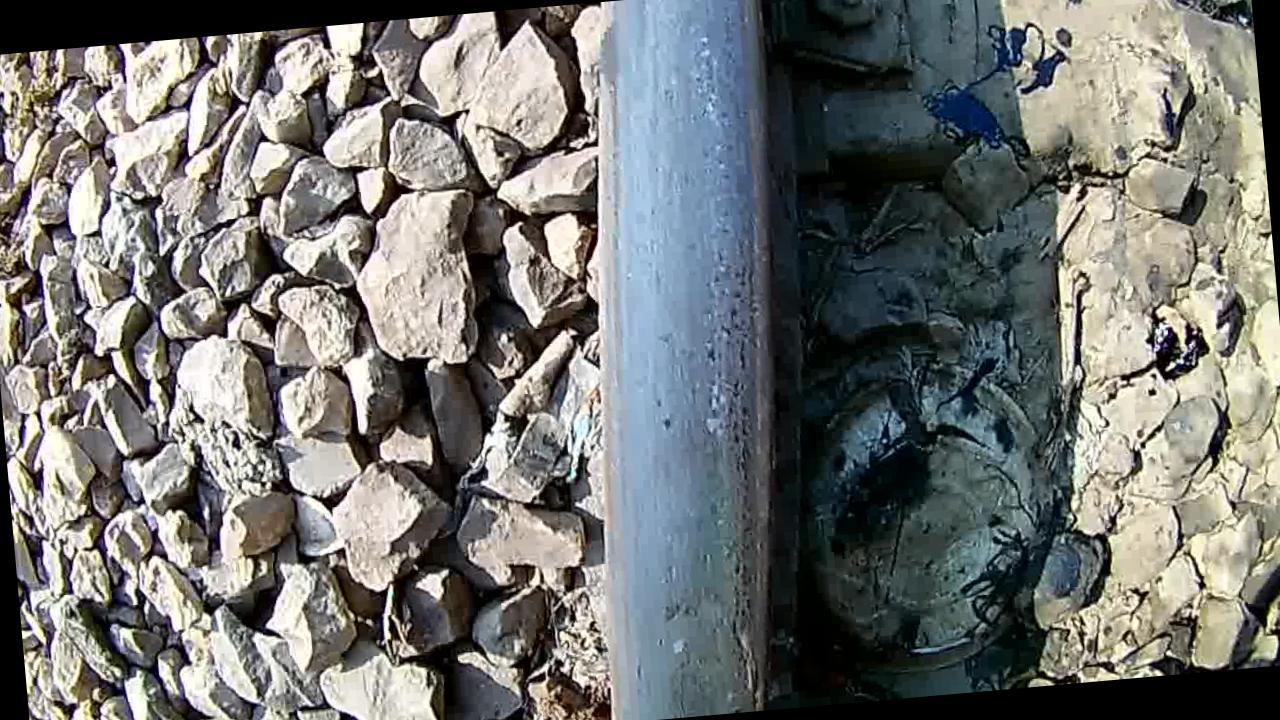bolt_missing: (595, 0, 829, 719)
